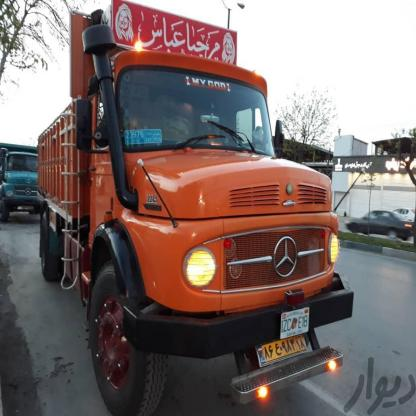Car: (340, 201, 416, 253)
Truck: (46, 9, 355, 412), (0, 137, 53, 228)
